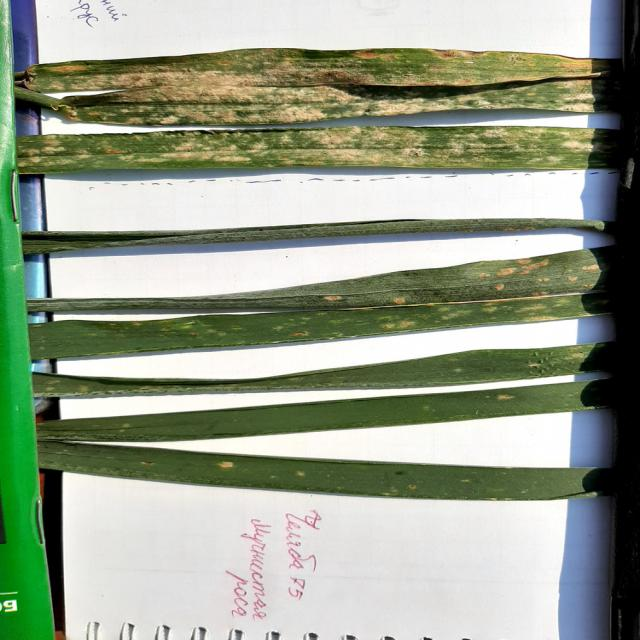wheat-powdery-mildew: (29, 250, 602, 365), (13, 48, 596, 125), (18, 126, 596, 174)
